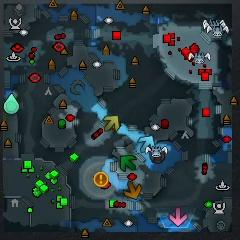Other: (93, 171, 109, 188)
p2: (3, 94, 20, 114)
x1: (169, 206, 188, 227)
x2: (103, 115, 120, 131)
x3: (139, 136, 154, 152)
x4: (120, 155, 137, 171)
x5: (124, 181, 141, 199)
